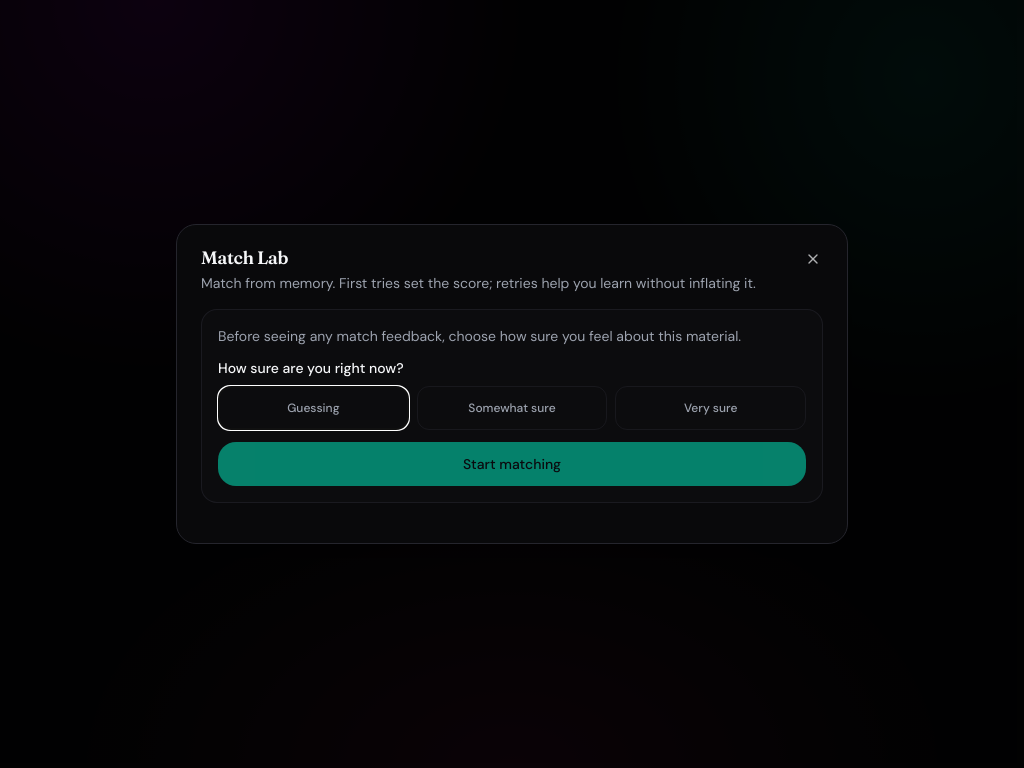
Scenario: RealMatchingSession › warns before discarding an unfinished matching session
Click the button "Somewhat sure": coordinates (512, 408) [417,386,607,430]
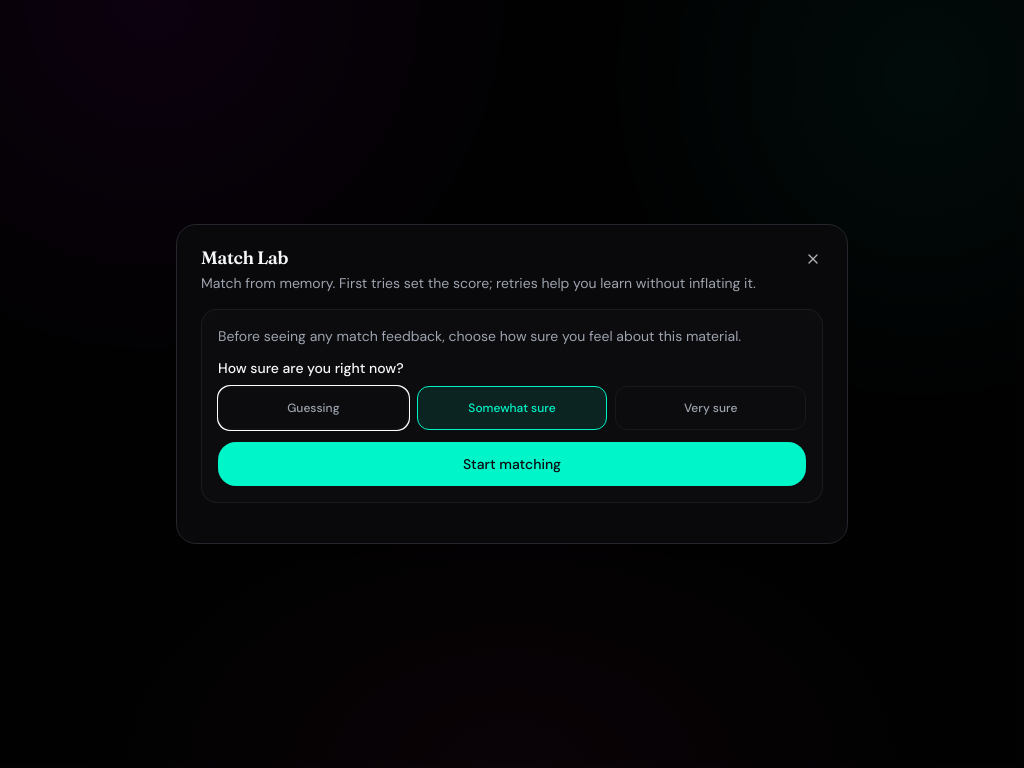
Click the button "Start matching": coordinates (512, 464) [218,442,806,486]
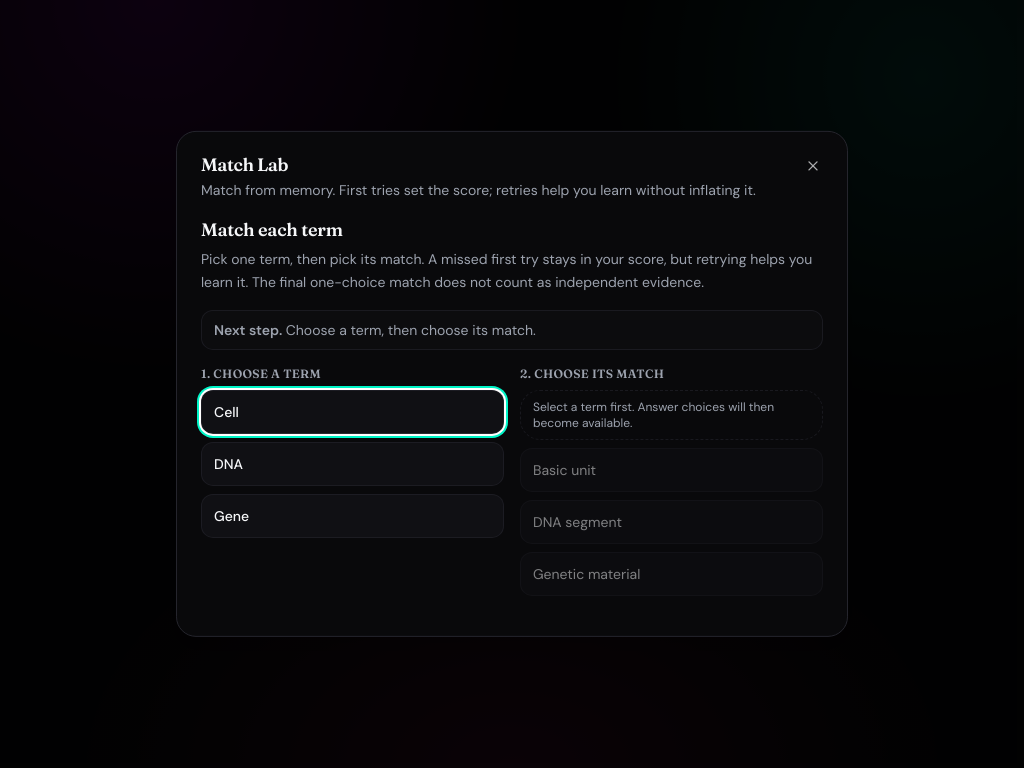
Click the button named "Close": coordinates (813, 166) [791,144,835,188]
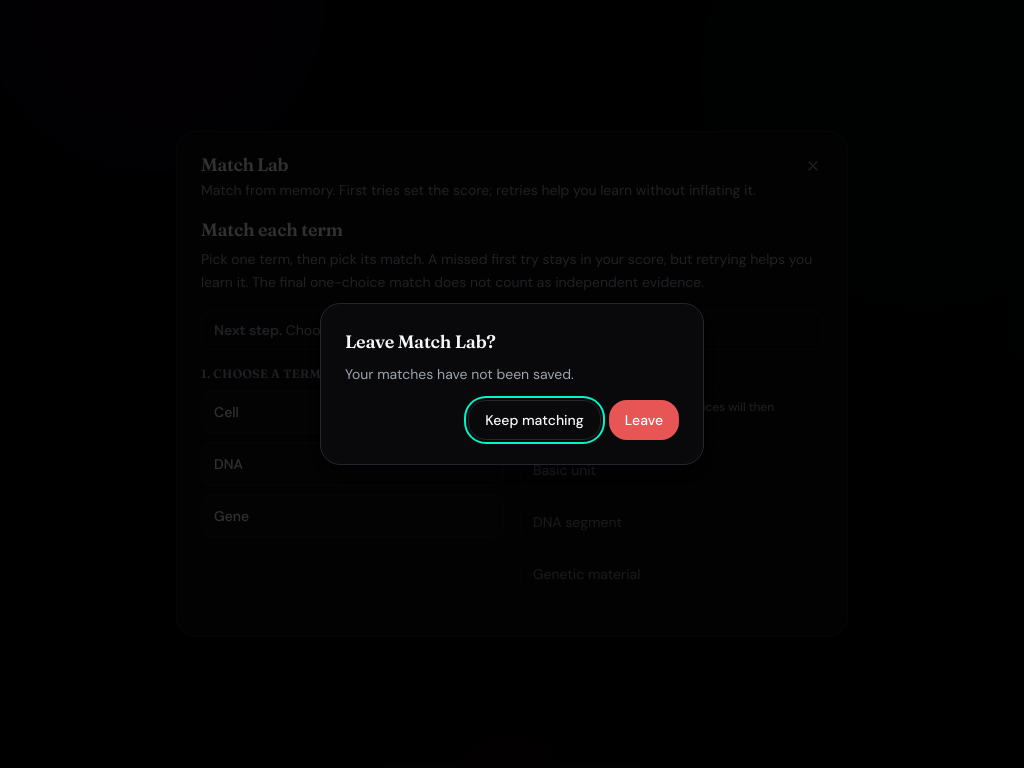
Check: the dialog that starts with "Leave Match Lab?" is shown, box [345,330,496,353]
